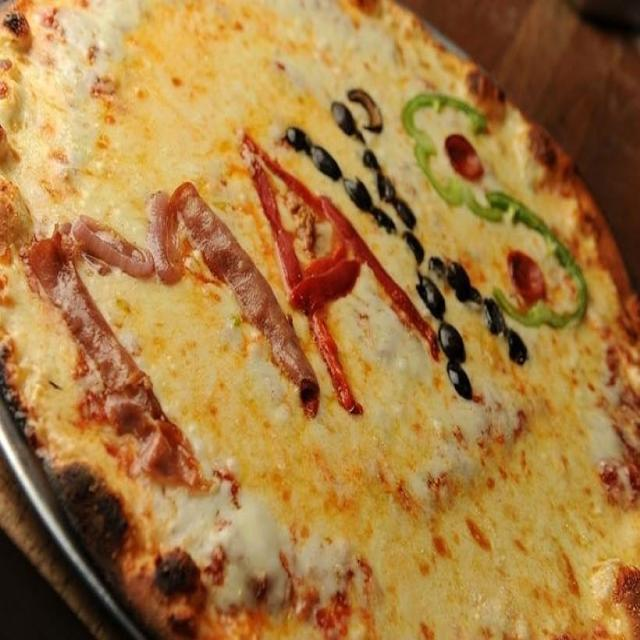black_olives: (431, 250, 472, 296), (311, 143, 348, 184), (439, 320, 473, 364), (446, 358, 473, 407), (330, 97, 360, 138), (416, 273, 447, 312), (376, 168, 402, 210), (346, 176, 376, 210), (284, 119, 313, 153), (508, 330, 533, 368), (396, 198, 421, 235), (482, 290, 504, 332), (404, 231, 428, 263), (375, 208, 398, 240), (362, 147, 380, 171), (471, 280, 484, 304), (378, 172, 386, 182)
mushrooms: (349, 76, 390, 134)
pepperoni: (443, 128, 488, 180), (506, 248, 548, 300)
peppers: (403, 84, 486, 142), (462, 179, 552, 231), (492, 286, 570, 342), (413, 138, 466, 212), (554, 237, 590, 332)
